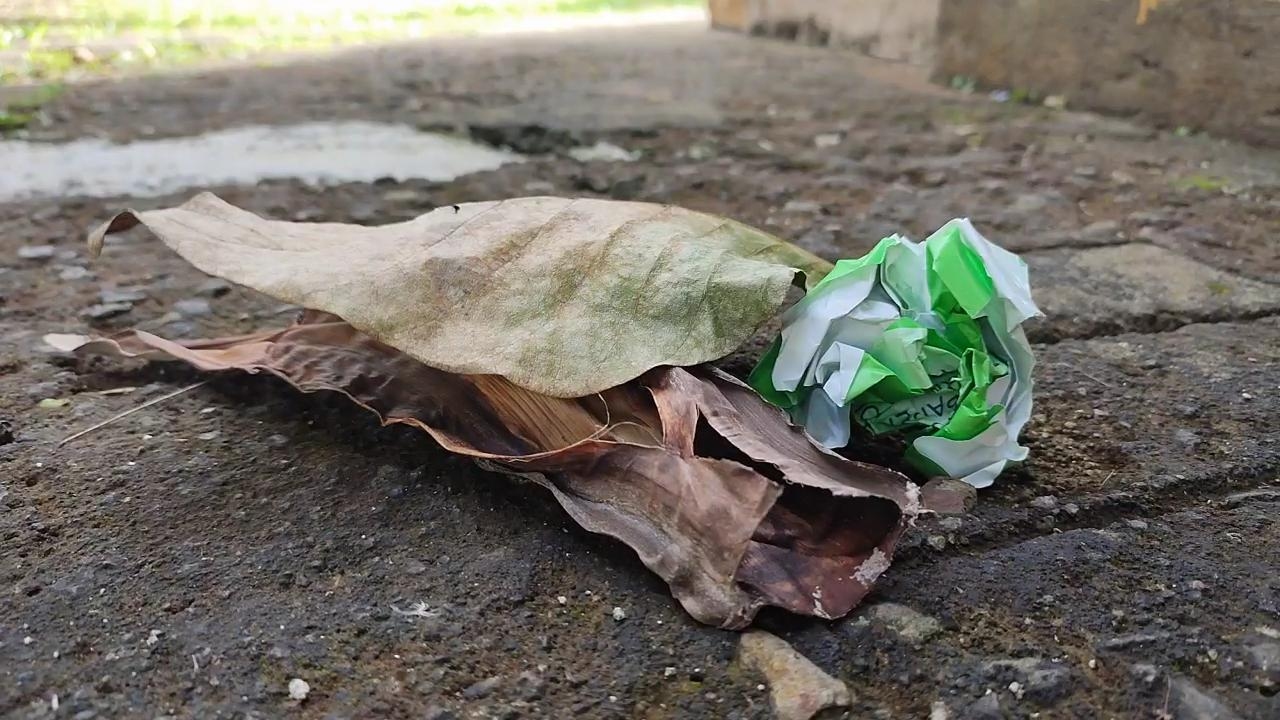Paper: (749, 212, 1038, 495)
